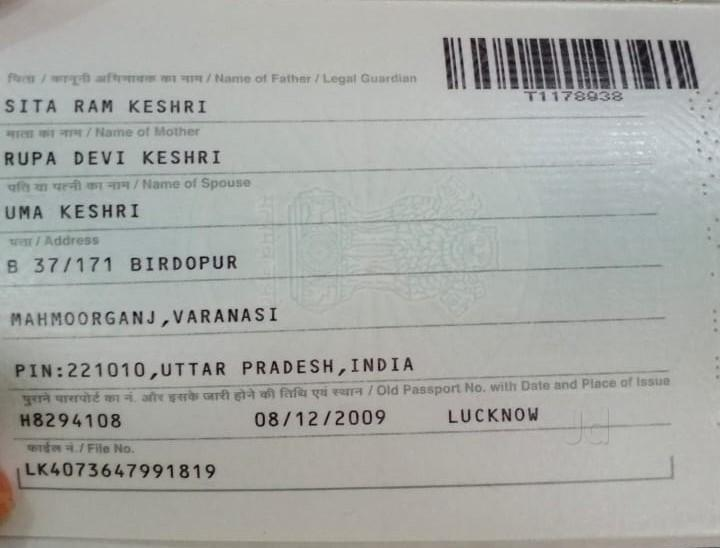File_no: (17, 456, 223, 483)
address: (1, 248, 447, 383)
father_name: (1, 90, 211, 122)
mother_name: (1, 142, 232, 175)
old_passport_details: (10, 402, 551, 435)
passport_no: (517, 83, 642, 111)
spouse_name: (2, 196, 147, 235)
